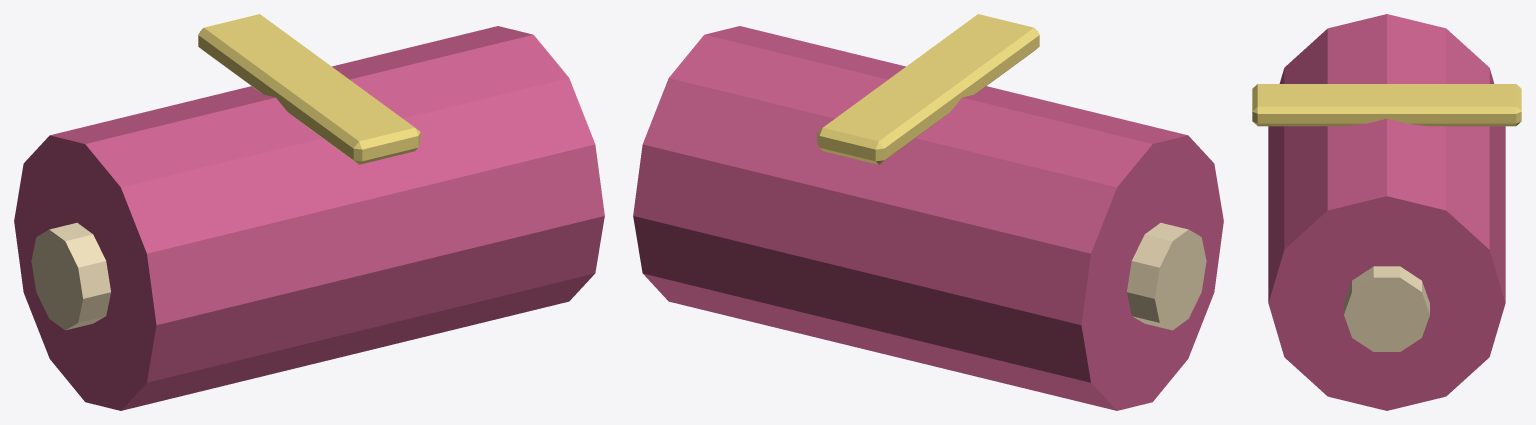
File: silk.glb
The picture shows the model from 3 angles, left to right: view 1: azimuth 30°, elevation 25°; view 2: azimuth 150°, elevation 25°; view 3: azimuth 270°, elevation 25°; orthographic projection. The views are drawn at different scales.
Visible parts, largest first — view 1: silk-bolt, silk-ribbon, silk-core-l; view 2: silk-bolt, silk-ribbon, silk-core-l; view 3: silk-bolt, silk-ribbon, silk-core-r.
Boxes of the visible parts, x1=… form: silk-bolt: x1=14, y1=26, x2=604, y2=410; silk-ribbon: x1=198, y1=14, x2=420, y2=164; silk-core-l: x1=31, y1=223, x2=110, y2=330; silk-bolt: x1=633, y1=26, x2=1223, y2=410; silk-ribbon: x1=817, y1=14, x2=1039, y2=164; silk-core-l: x1=1127, y1=223, x2=1206, y2=330; silk-bolt: x1=1268, y1=14, x2=1505, y2=410; silk-ribbon: x1=1252, y1=84, x2=1521, y2=126; silk-core-r: x1=1344, y1=266, x2=1429, y2=351.
Size of the model in its own units: 1.96 by 1 by 1.09.
